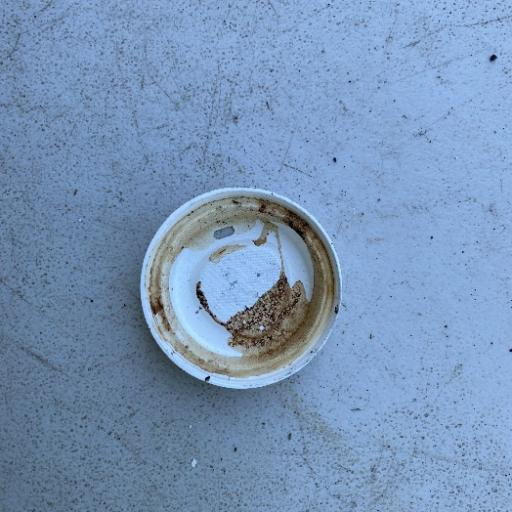Plastic: (138, 186, 343, 390)
